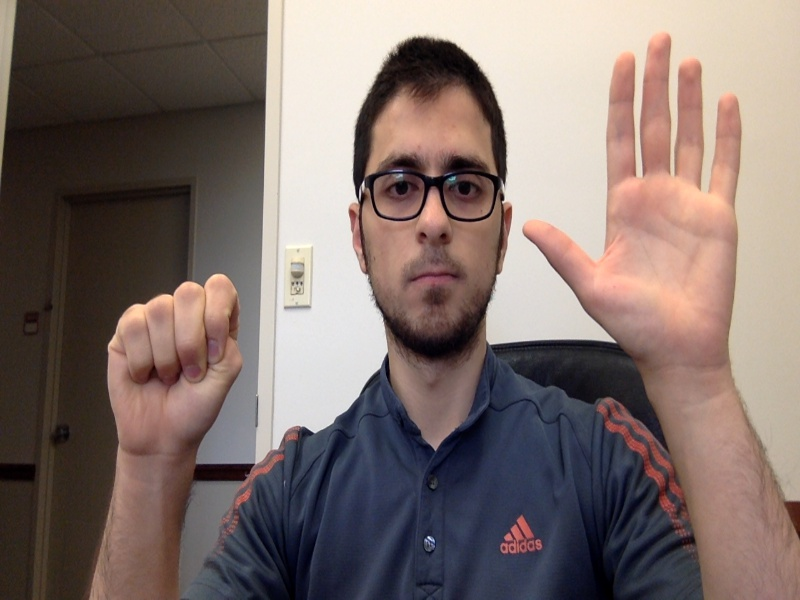0-hand: (106, 274, 244, 452)
5-hand: (524, 33, 741, 377)
